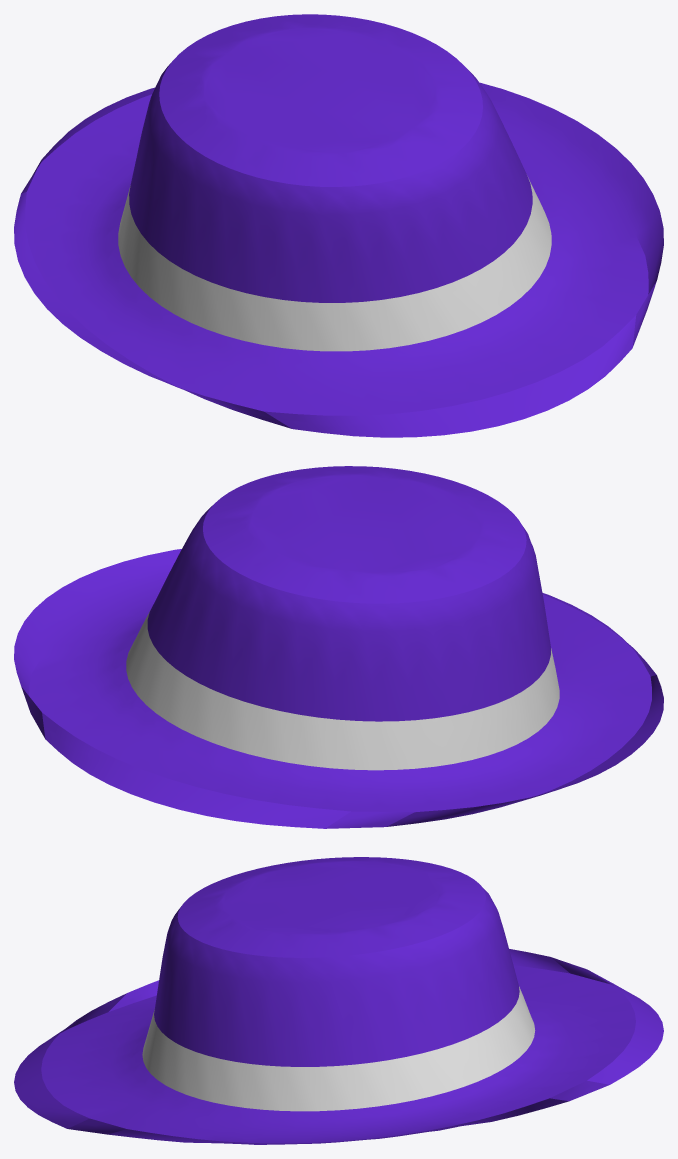
The model's file is fedora.glb.
The picture shows the model from 3 angles, top to bottom: view 1: azimuth 30°, elevation 25°; view 2: azimuth 150°, elevation 25°; view 3: azimuth 270°, elevation 25°; orthographic projection. The views are drawn at different scales.
Parts seen in each view (by area): view 1: Circle.001 (×2); view 2: Circle.001 (×2); view 3: Circle.001 (×2).
Part boxes in pixels (left/top/right/bottom): Circle.001 (×2): left=14, top=14, right=663, bottom=437; Circle.001 (×2): left=14, top=466, right=663, bottom=828; Circle.001 (×2): left=14, top=857, right=663, bottom=1144.
Bounding box in the file's own units: 2.27 × 0.8547 × 2.65.
